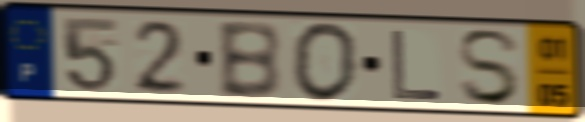2: (132, 17, 190, 96)
5: (58, 15, 122, 94)
B: (214, 19, 285, 102)
L: (388, 27, 445, 103)
O: (288, 20, 361, 105)
S: (455, 27, 525, 109)
